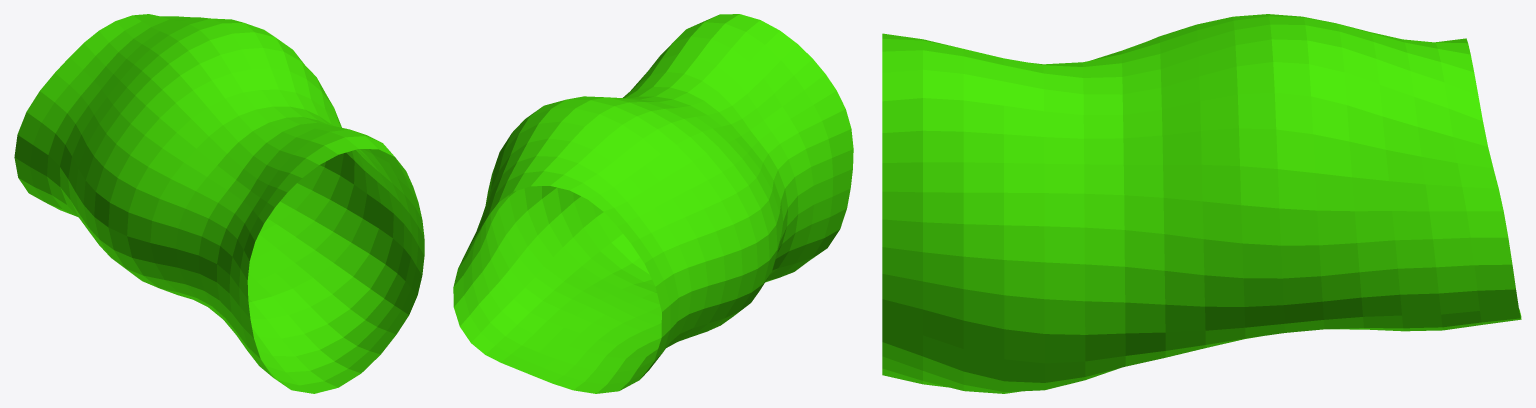
The picture shows the model from 3 angles, left to right: view 1: azimuth 30°, elevation 25°; view 2: azimuth 150°, elevation 25°; view 3: azimuth 270°, elevation 25°; orthographic projection. The views are drawn at different scales.
Visible parts, largest first — view 1: Cube-col; view 2: Cube-col; view 3: Cube-col.
Part boxes in pixels (bbox=[...]): Cube-col: bbox=[14, 14, 424, 393]; Cube-col: bbox=[453, 14, 853, 393]; Cube-col: bbox=[882, 14, 1521, 393].
Size of the model in its own units: 8.66 by 8.66 by 13.95.
